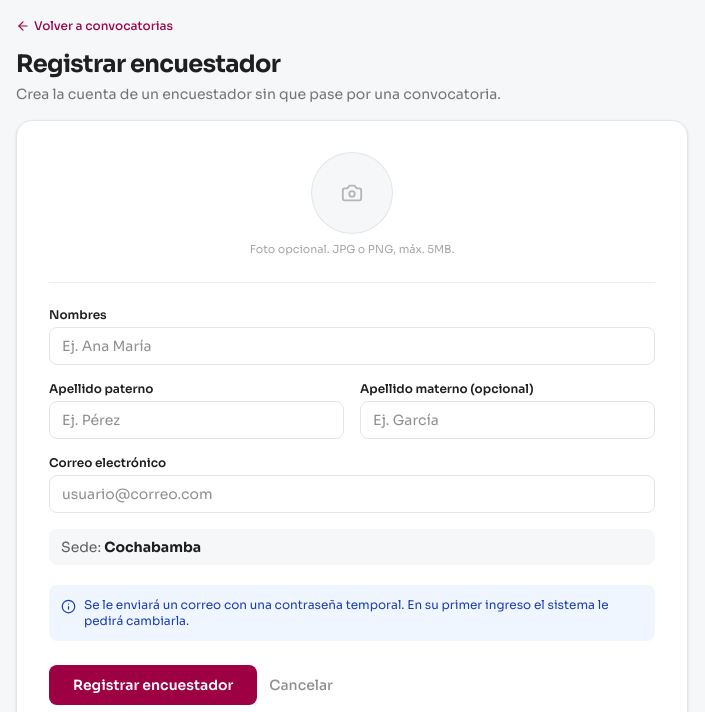
Test: RegistrarEncuestadorPage (US54) › el Admin registra en su sede: no manda campusId
Type "Luis" into the field labelled "Nombres".
click(352, 346); type("Luis")  # box [49,326,655,364]
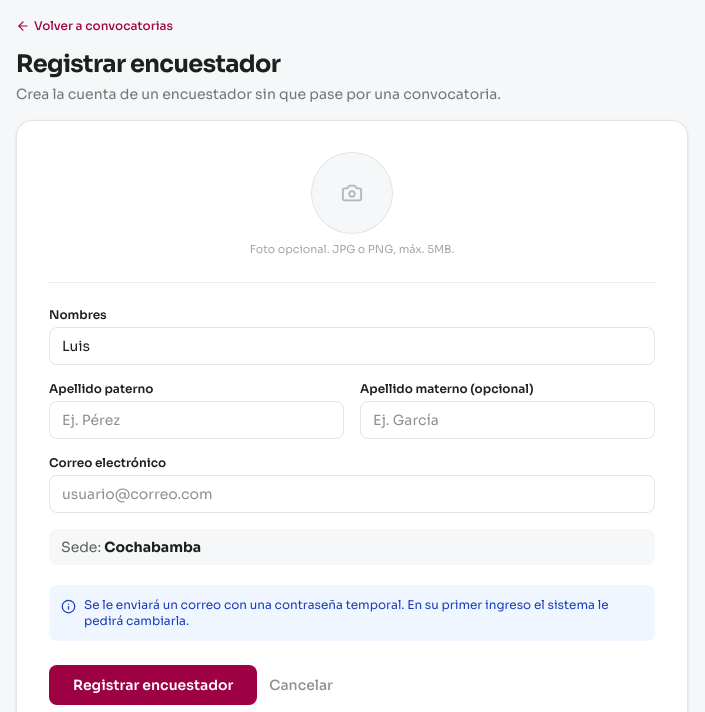
Type "Rojas" into the field labelled "Apellido paterno".
click(196, 420); type("Rojas")  # box [49,400,344,438]
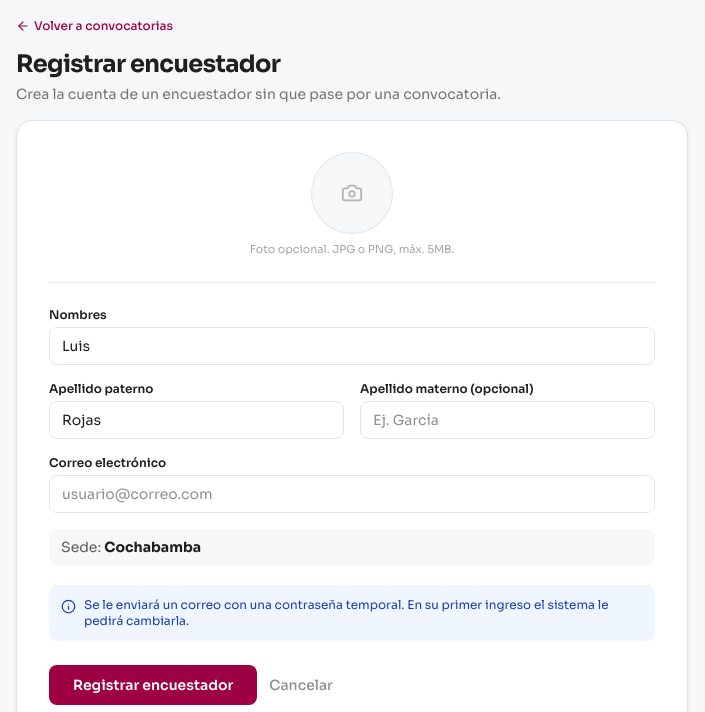
Type "luis@correo.com" into the field labelled "Correo electrónico".
click(352, 494); type("luis@correo.com")  # box [49,474,655,512]
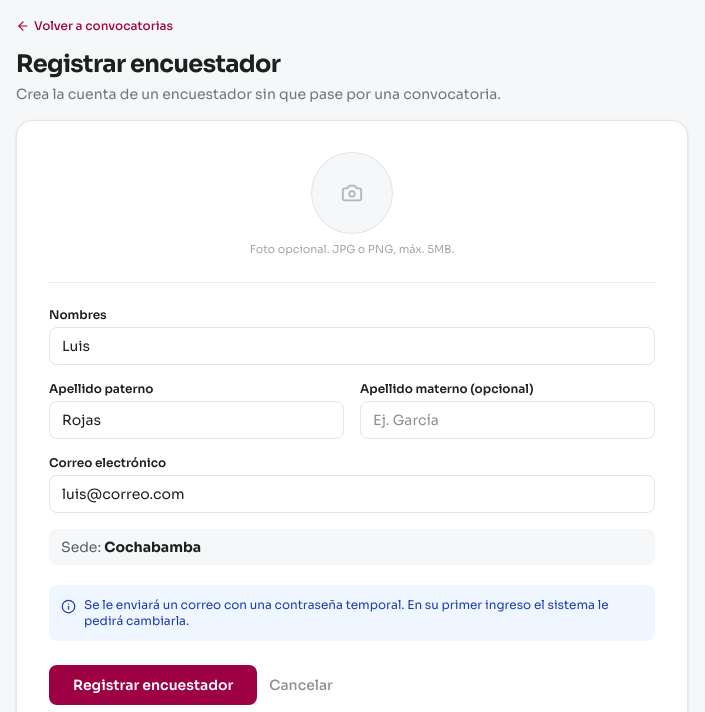
Click the button "Registrar encuestador".
click(153, 684)  # box [49,664,257,704]
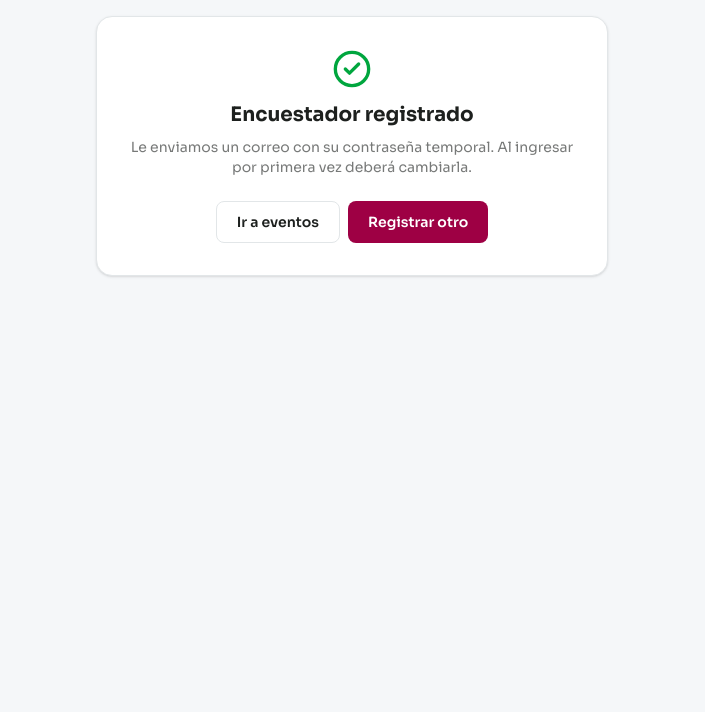
Result: the heading "Encuestador registrado" is shown at [230,102,474,127]
